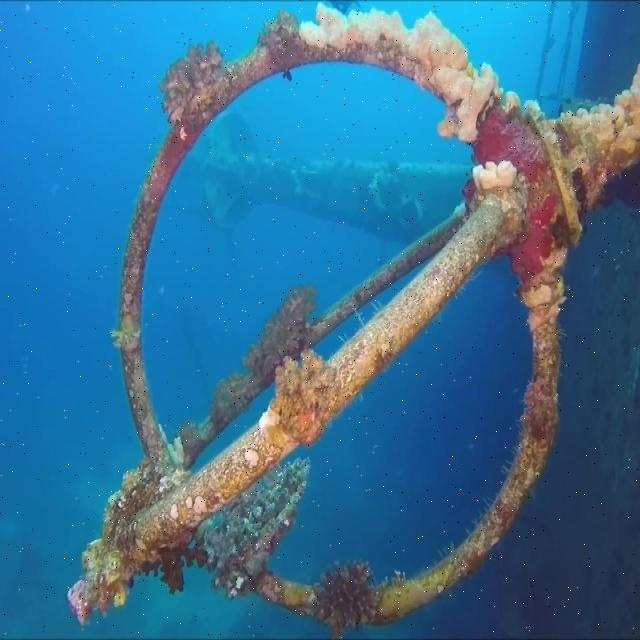wrecks-ruins: (68, 6, 639, 639), (268, 258, 532, 585), (179, 102, 600, 265)
